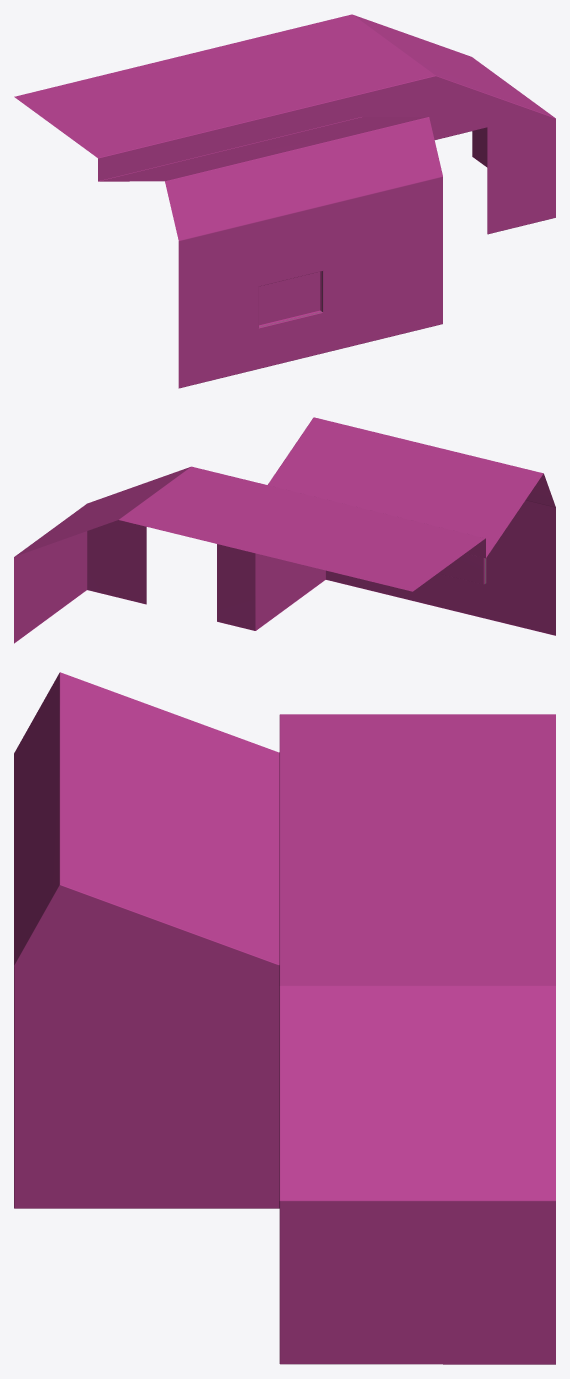
Rendered from StructureofficeOuter_01_Mesh.fbx.
3 renders of one model, top to bottom at view 1: azimuth 30°, elevation 25°; view 2: azimuth 150°, elevation 25°; view 3: azimuth 270°, elevation 25°, orthographic. The views are drawn at different scales.
Parts seen in each view (by area): view 1: StructureofficeOuter_01; view 2: StructureofficeOuter_01; view 3: StructureofficeOuter_01.
Part boxes in pixels (x1,y1,x2,y2): StructureofficeOuter_01: (14,14,555,388); StructureofficeOuter_01: (14,417,555,643); StructureofficeOuter_01: (14,672,555,1364).
Size of the model in its own units: 1269 by 522 by 790.
